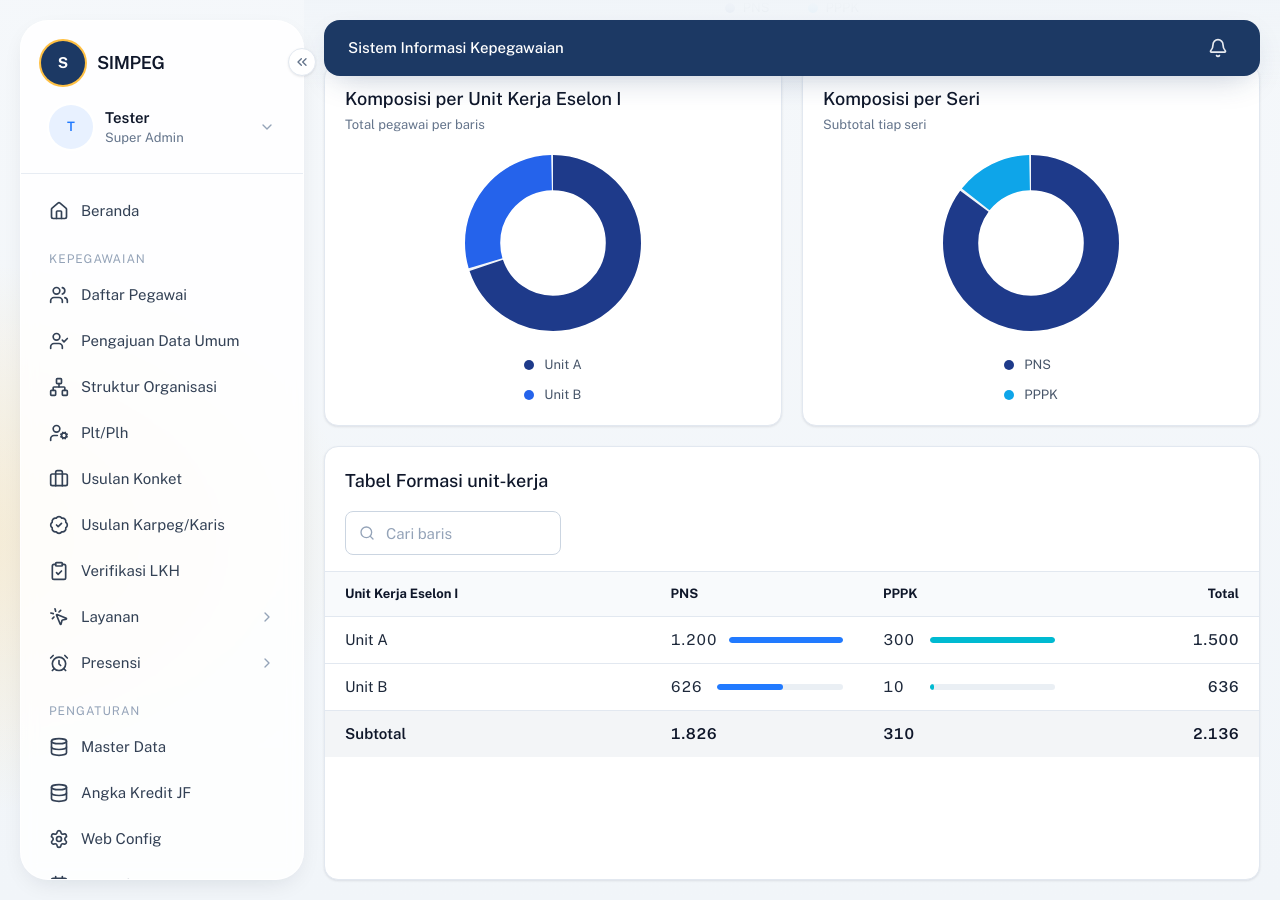
Test: LaporanPage › pencarian menyaring baris; tanpa hasil menampilkan keadaan kosong
(page scrolled)
In the search field with placeholder "Cari baris": (453, 533) [345, 511, 561, 555], type "Unit B"
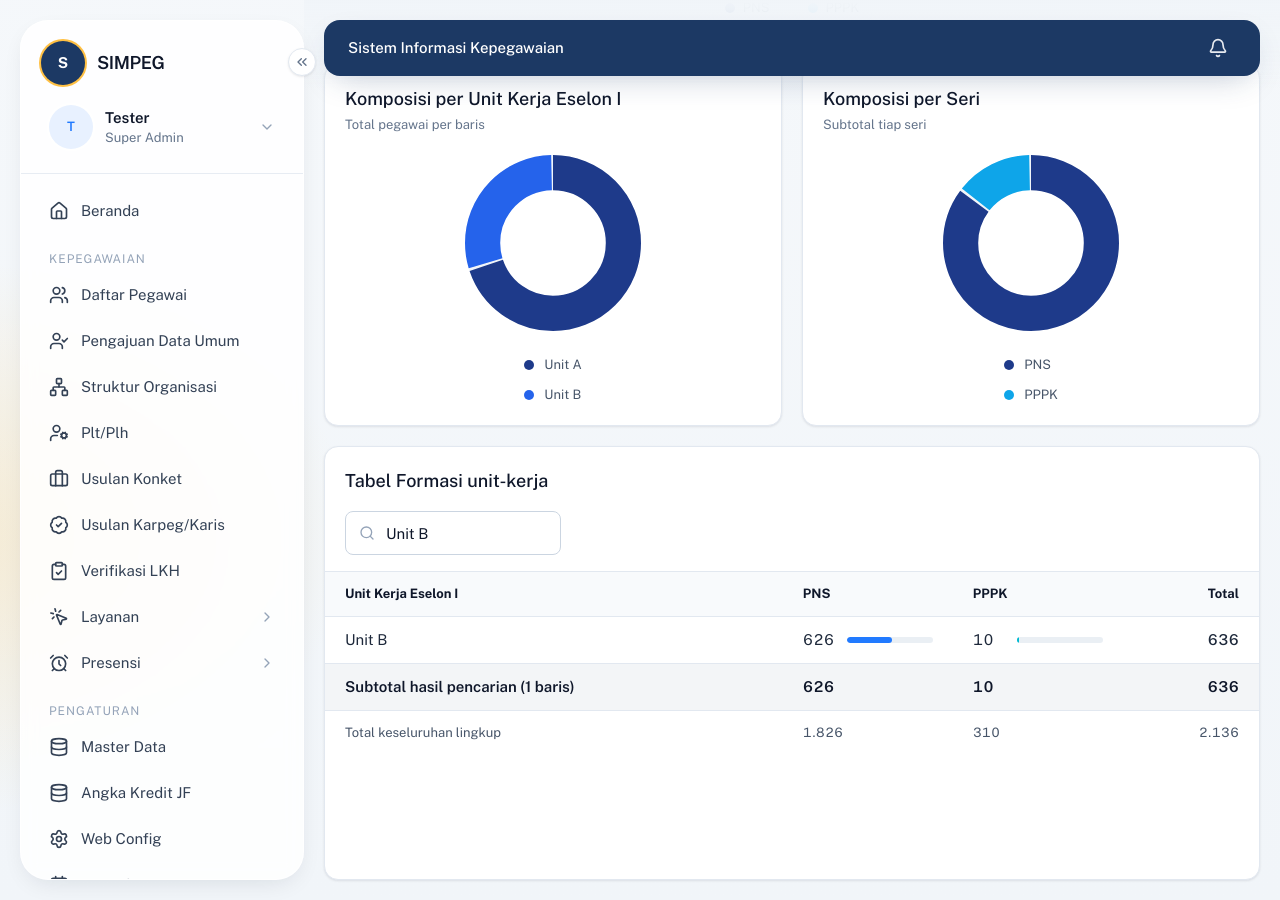
Replace the text in the search field with "zzz": (453, 533) [345, 511, 561, 555]
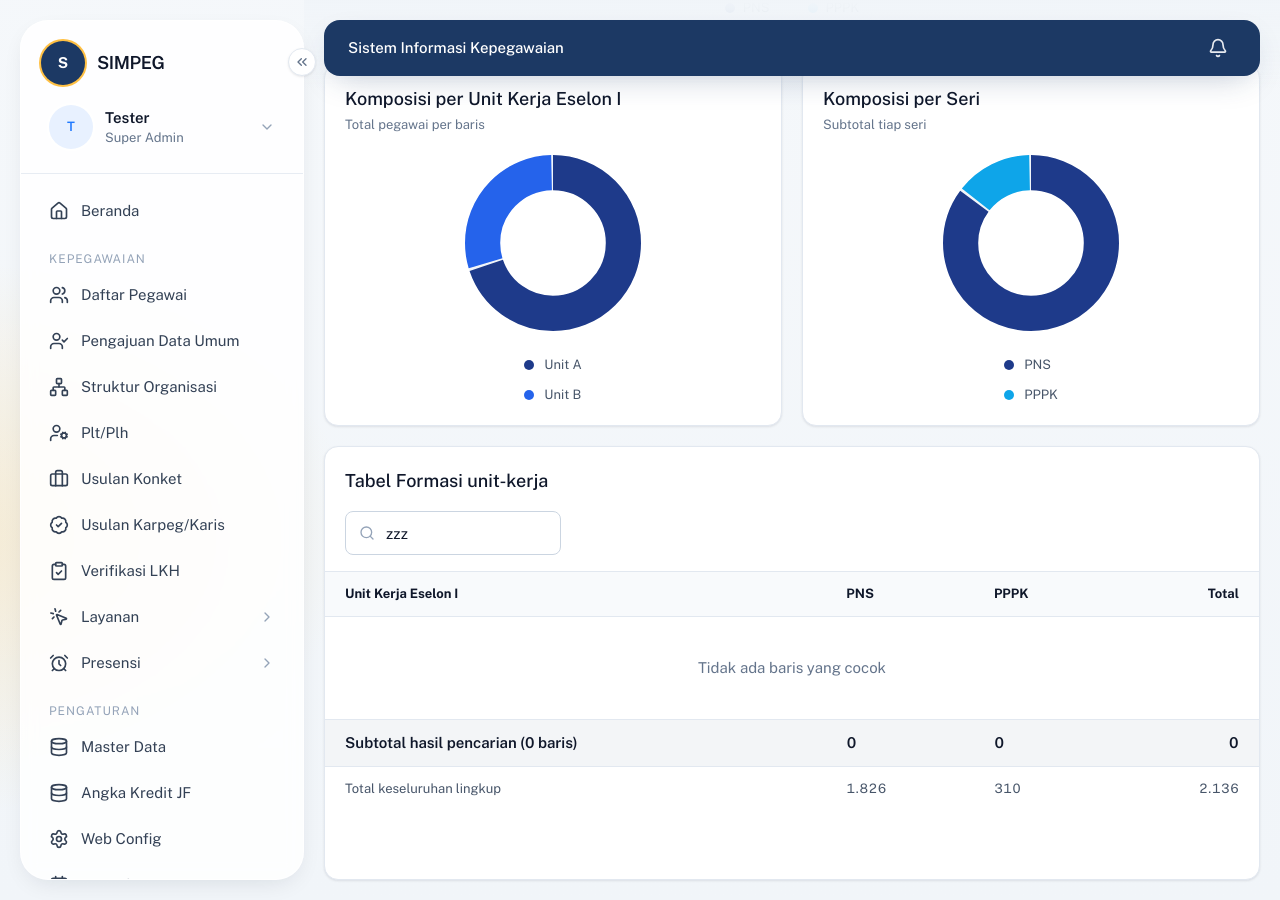
Expected: the cell with test id "laporan-empty" is shown, [325, 616, 1259, 720]
